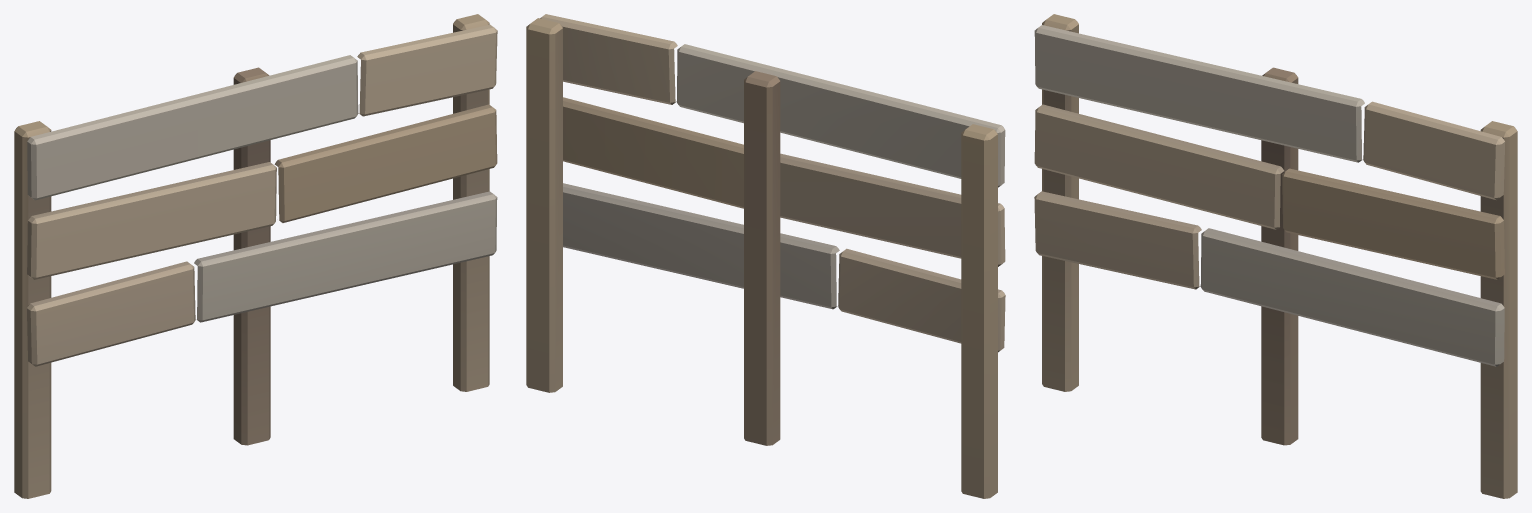
File: fence.glb
3 views of the same model, side by side, from view 1: azimuth 30°, elevation 25°; view 2: azimuth 150°, elevation 25°; view 3: azimuth 330°, elevation 25° (orthographic).
Size of the model in its own units: 2.41 by 1.81 by 0.18.
